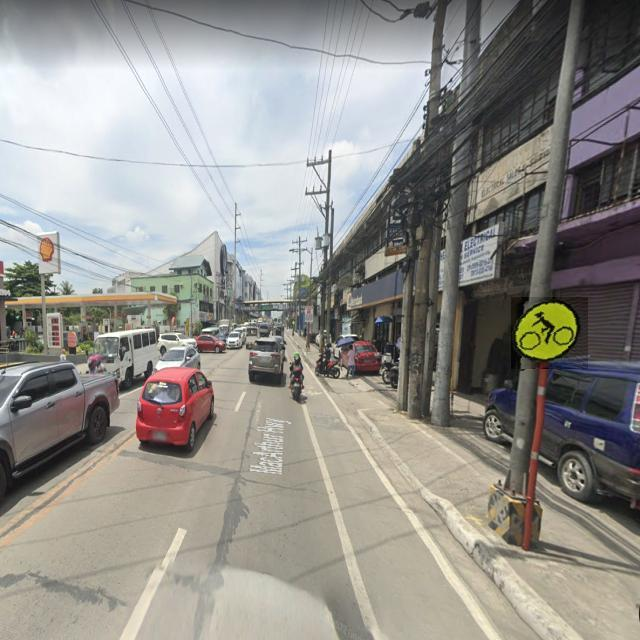bike lane: (511, 297, 588, 369)
